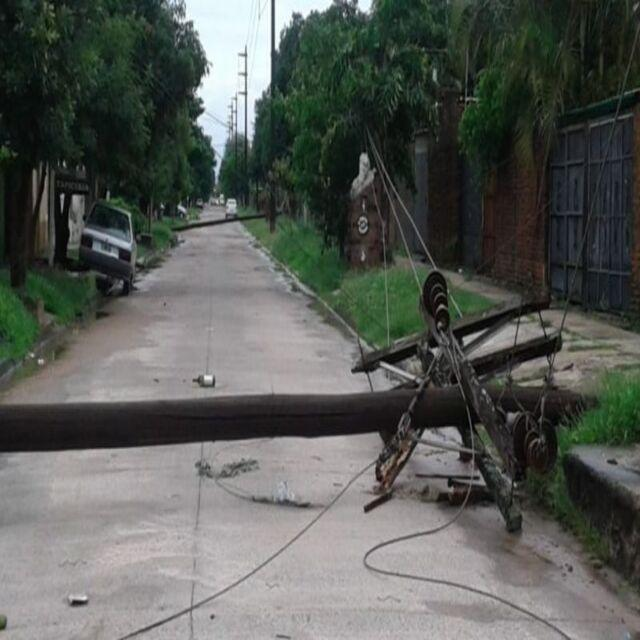Inclined Pole: (0, 261, 604, 543)
